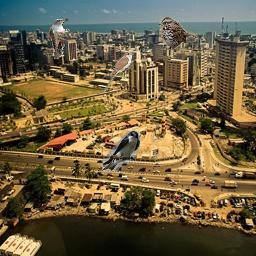Cuckoo: (104, 52, 134, 92), (49, 19, 70, 59)
Sparrow: (159, 17, 199, 50)
Swallow: (102, 131, 140, 171)
